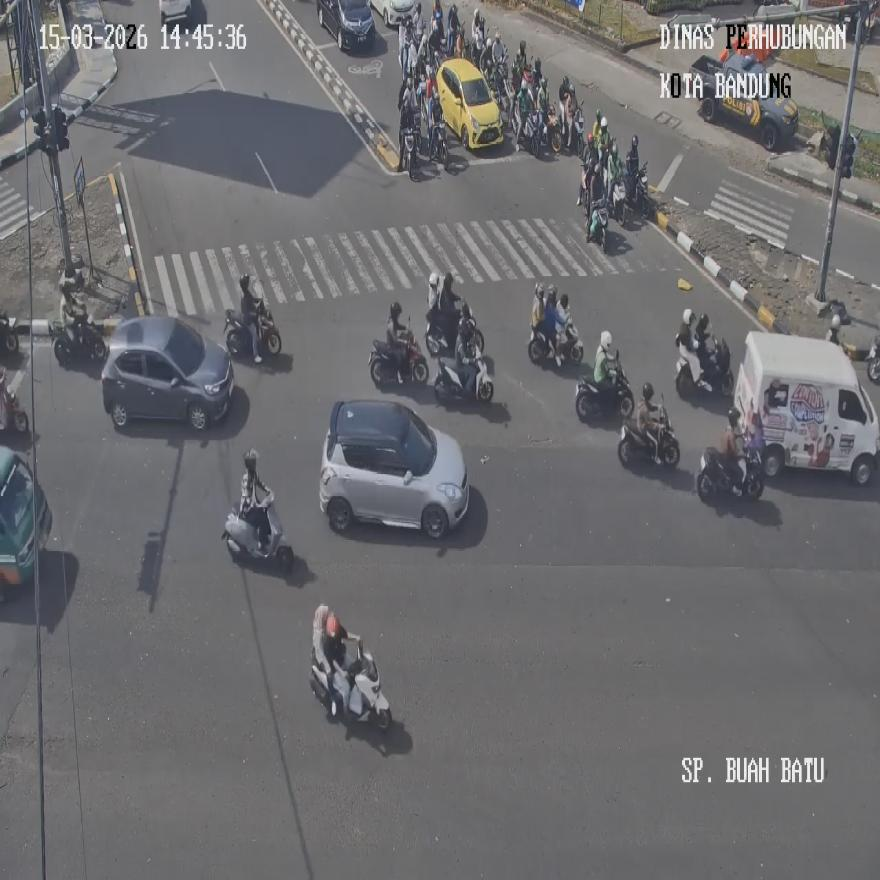Motor: (734, 331, 880, 484), (319, 397, 469, 537), (100, 314, 233, 430), (317, 0, 374, 51)
Truk: (310, 638, 391, 730), (222, 493, 294, 573), (618, 392, 679, 468), (697, 444, 764, 501), (675, 332, 732, 398), (368, 324, 427, 385), (575, 362, 634, 420), (225, 300, 280, 360), (433, 354, 494, 404), (426, 308, 484, 359), (51, 314, 106, 364), (528, 319, 584, 367), (0, 381, 29, 434), (626, 160, 651, 218), (518, 107, 544, 156), (587, 200, 609, 252), (428, 121, 449, 169), (402, 127, 420, 180), (608, 177, 627, 226), (0, 310, 20, 355), (546, 102, 562, 152), (867, 336, 880, 384)
